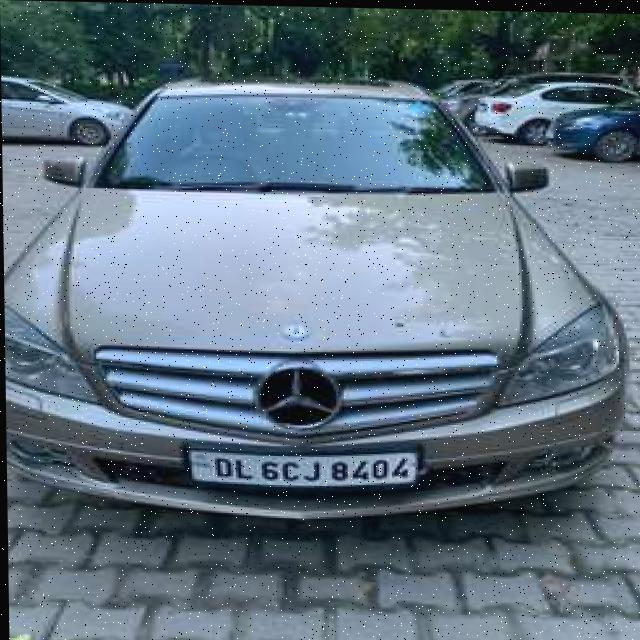plate: (179, 439, 424, 490)
